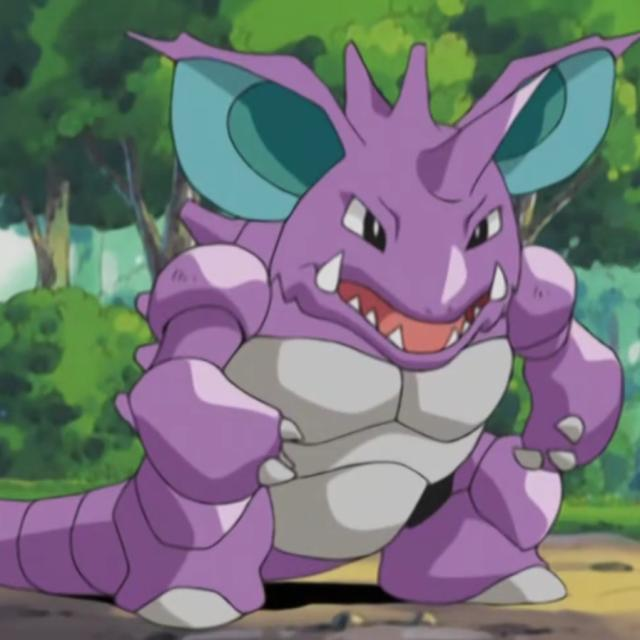Nidoking: (69, 28, 619, 640)
